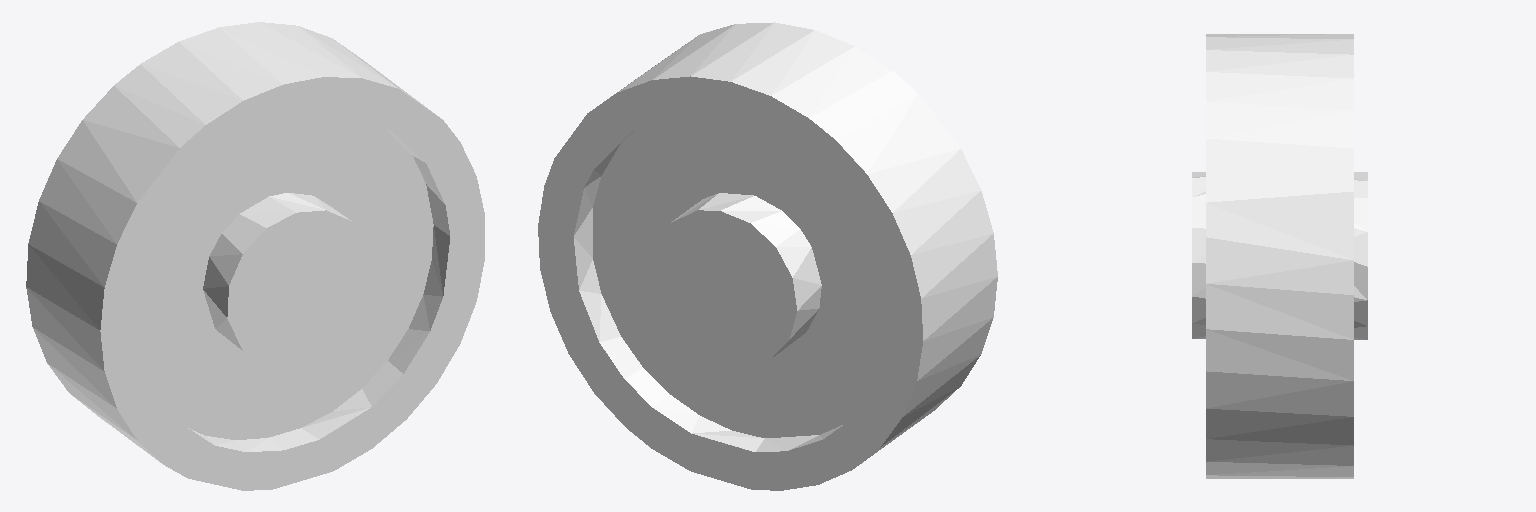
Rendered from wheel.obj.
3 renders of one model, left to right at view 1: azimuth 30°, elevation 25°; view 2: azimuth 150°, elevation 25°; view 3: azimuth 270°, elevation 25°, orthographic.
Visible parts, largest first — view 1: Object.010; view 2: Object.010; view 3: Object.010.
Boxes of the visible parts, x1=… form: Object.010: x1=26, y1=22, x2=484, y2=490; Object.010: x1=538, y1=22, x2=997, y2=490; Object.010: x1=1192, y1=34, x2=1367, y2=478.
Bounding box in the file's own units: 1.08 × 1.08 × 0.4272.